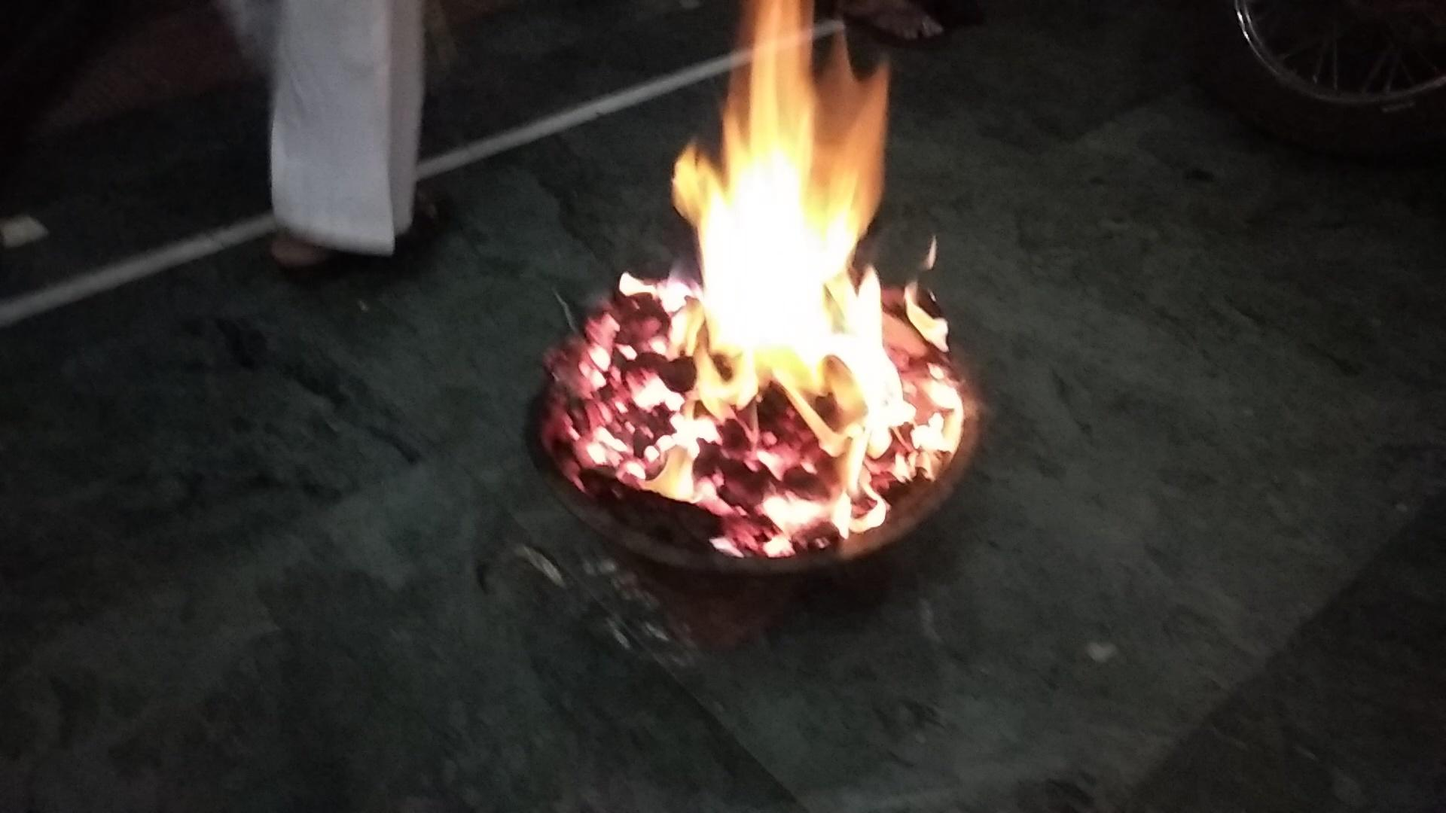fire: (559, 2, 980, 580)
